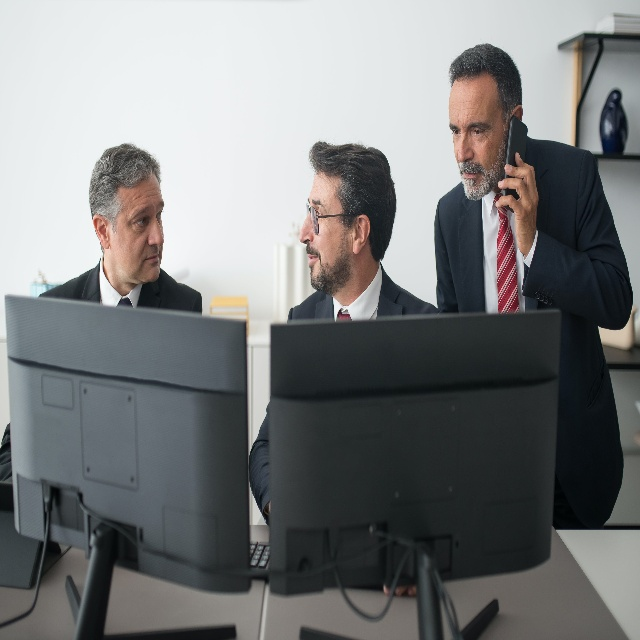Gafas: (305, 202, 353, 235)
Sin_guantes: (495, 152, 539, 256)
